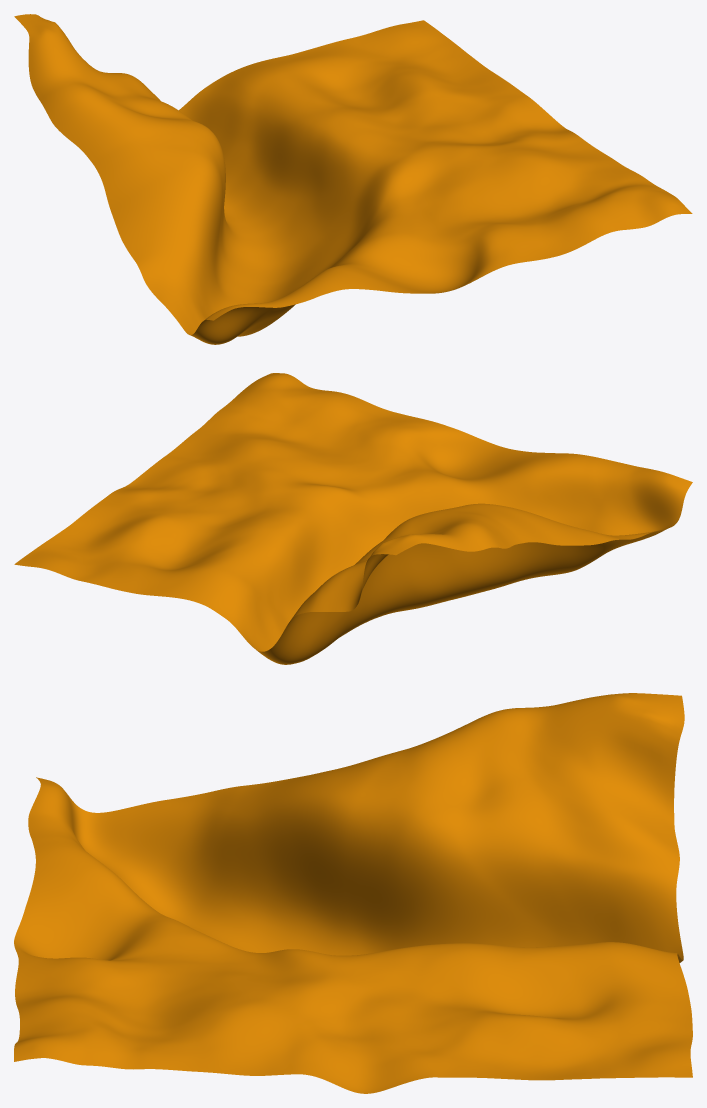
File: Canyon.fbx
The picture shows the model from 3 angles, top to bottom: view 1: azimuth 30°, elevation 25°; view 2: azimuth 150°, elevation 25°; view 3: azimuth 270°, elevation 25°; orthographic projection. The views are drawn at different scales.
Parts seen in each view (by area): view 1: Plane; view 2: Plane; view 3: Plane.
Boxes of the visible parts, x1,y1,x2,y2 form: Plane: [14, 14, 692, 344]; Plane: [14, 373, 692, 664]; Plane: [14, 693, 692, 1093].
Bounding box in the file's own units: 93940 × 34161 × 92289.
